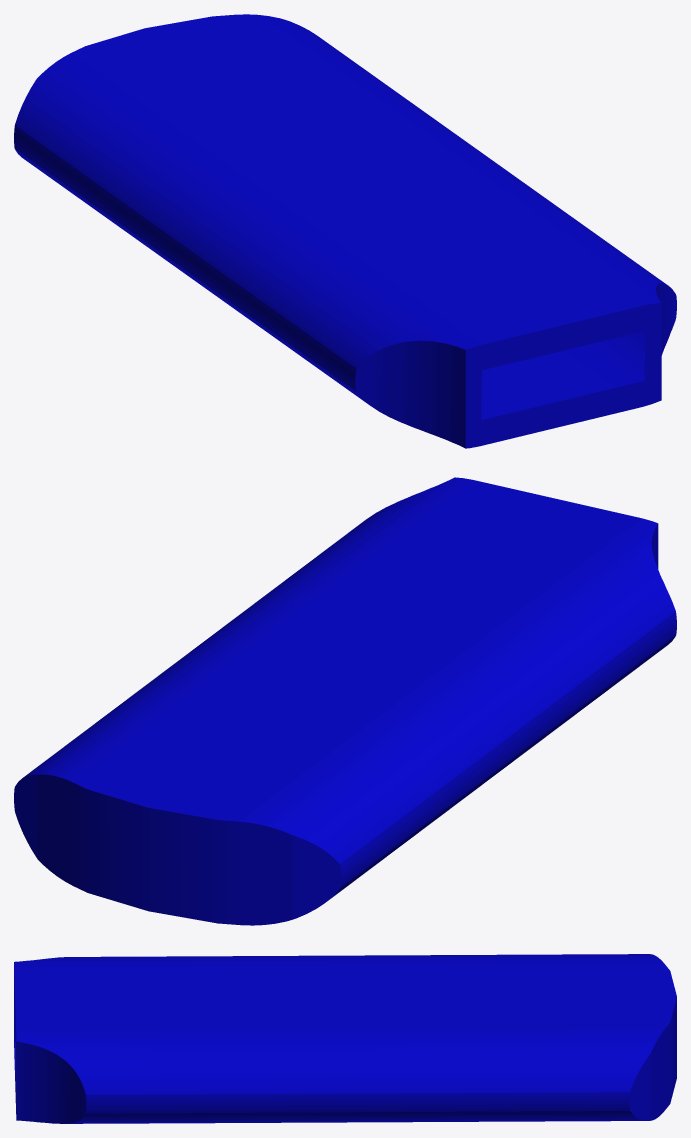
File: original-7.obj
3 views of the same model, one above another, from view 1: azimuth 30°, elevation 25°; view 2: azimuth 150°, elevation 25°; view 3: azimuth 270°, elevation 25° (orthographic). The views are drawn at different scales.
Visible parts, largest first — view 1: #ID7; view 2: #ID7; view 3: #ID7.
Boxes of the visible parts, x1=… form: #ID7: x1=14, y1=14, x2=676, y2=448; #ID7: x1=14, y1=477, x2=676, y2=925; #ID7: x1=14, y1=954, x2=676, y2=1123.
Bounding box in the file's own units: 0.5734 × 0.1718 × 1.24.
